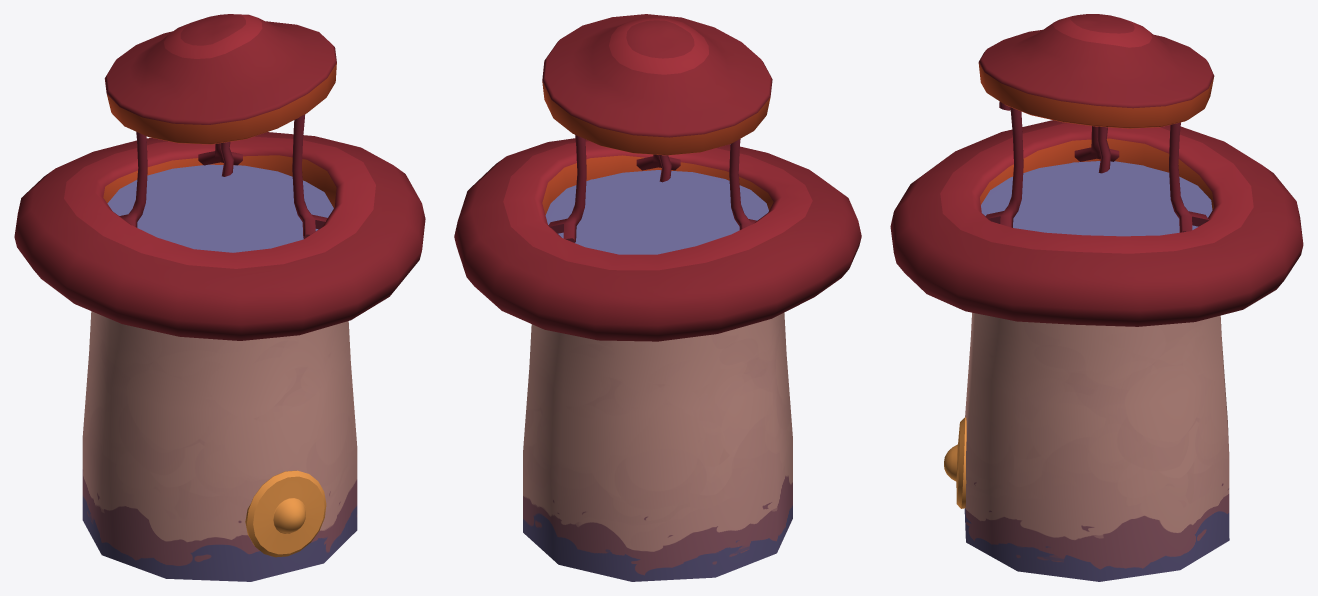
The model's file is L_House2.fbx.
3 views of the same model, side by side, from view 1: azimuth 30°, elevation 25°; view 2: azimuth 150°, elevation 25°; view 3: azimuth 270°, elevation 25° (orthographic).
Parts seen in each view (by area): view 1: L_House2; view 2: L_House2; view 3: L_House2.
Boxes of the visible parts, x1,y1,x2,y2 form: L_House2: [14, 14, 425, 581]; L_House2: [454, 14, 861, 581]; L_House2: [890, 14, 1303, 581].
Size of the model in its own units: 894 by 1205 by 894.
